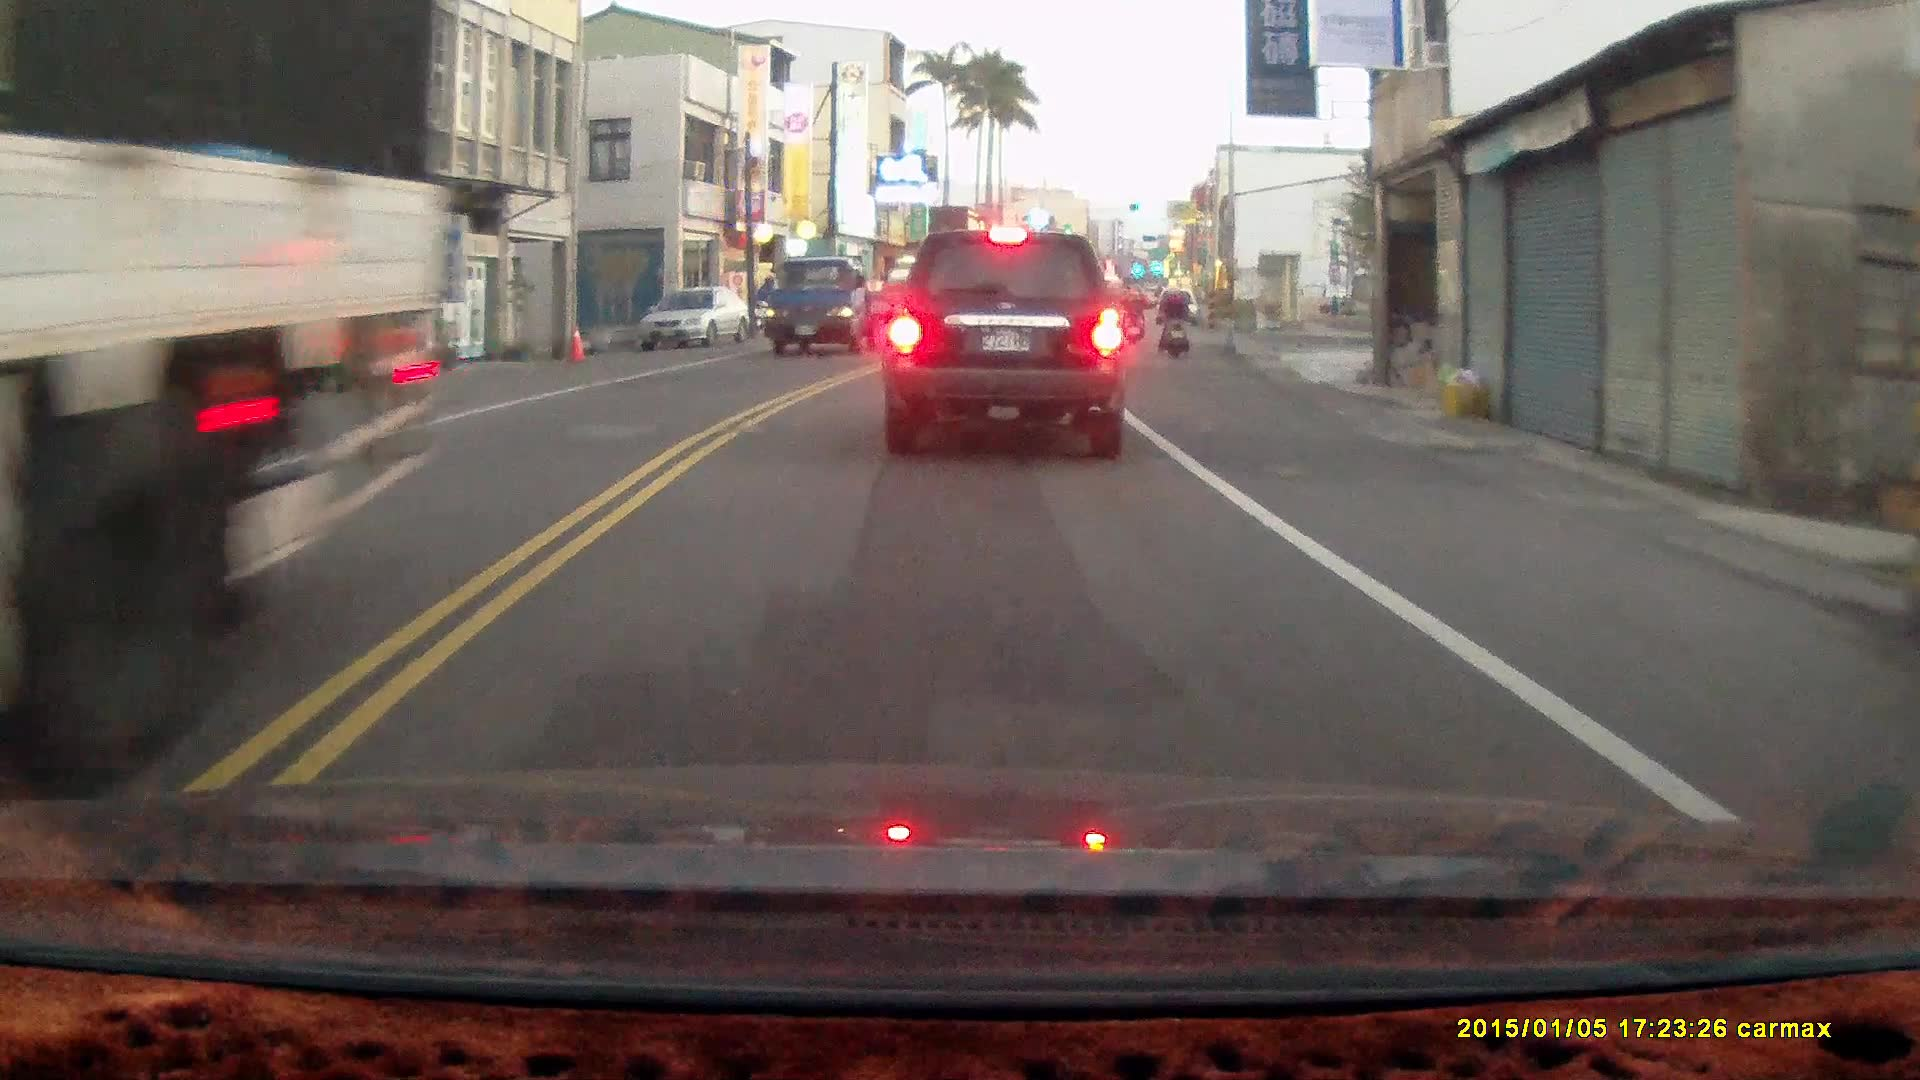rider: (1156, 279, 1187, 360), (1118, 280, 1145, 345)
vehicle: (0, 6, 493, 797), (880, 226, 1129, 460), (758, 256, 886, 360), (637, 286, 753, 350)
